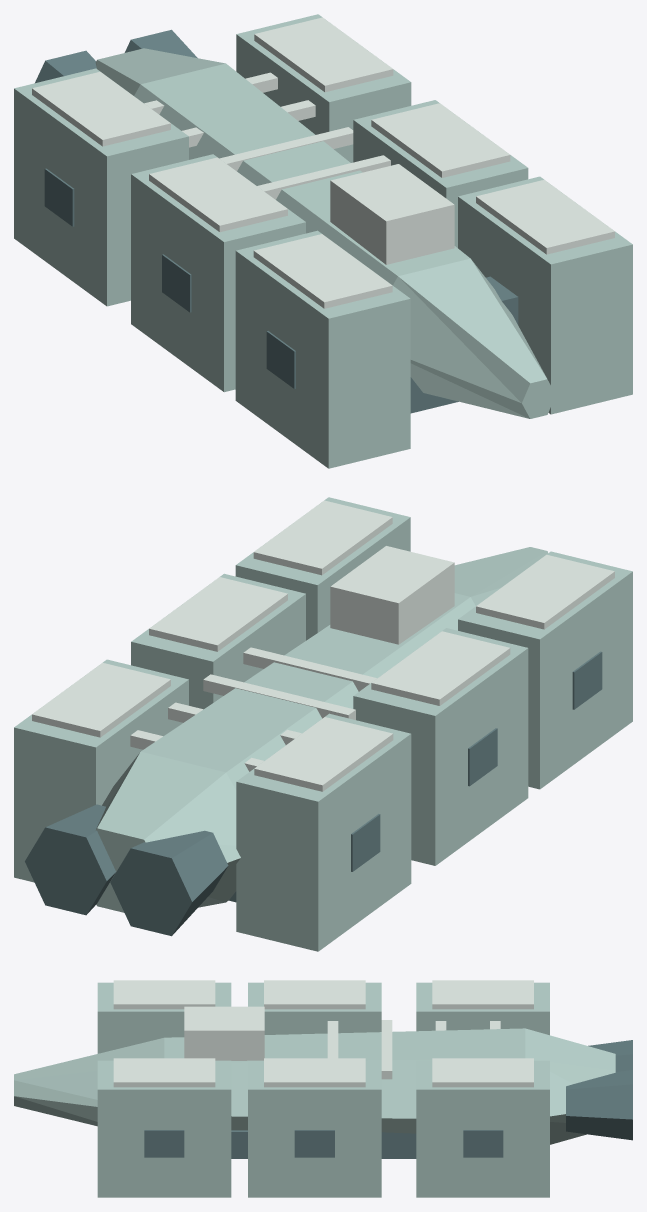
The picture shows the model from 3 angles, top to bottom: view 1: azimuth 30°, elevation 25°; view 2: azimuth 150°, elevation 25°; view 3: azimuth 270°, elevation 25°; orthographic projection. The views are drawn at different scales.
Bounding box in the file's own units: 3.71 × 2.01 × 8.98.
